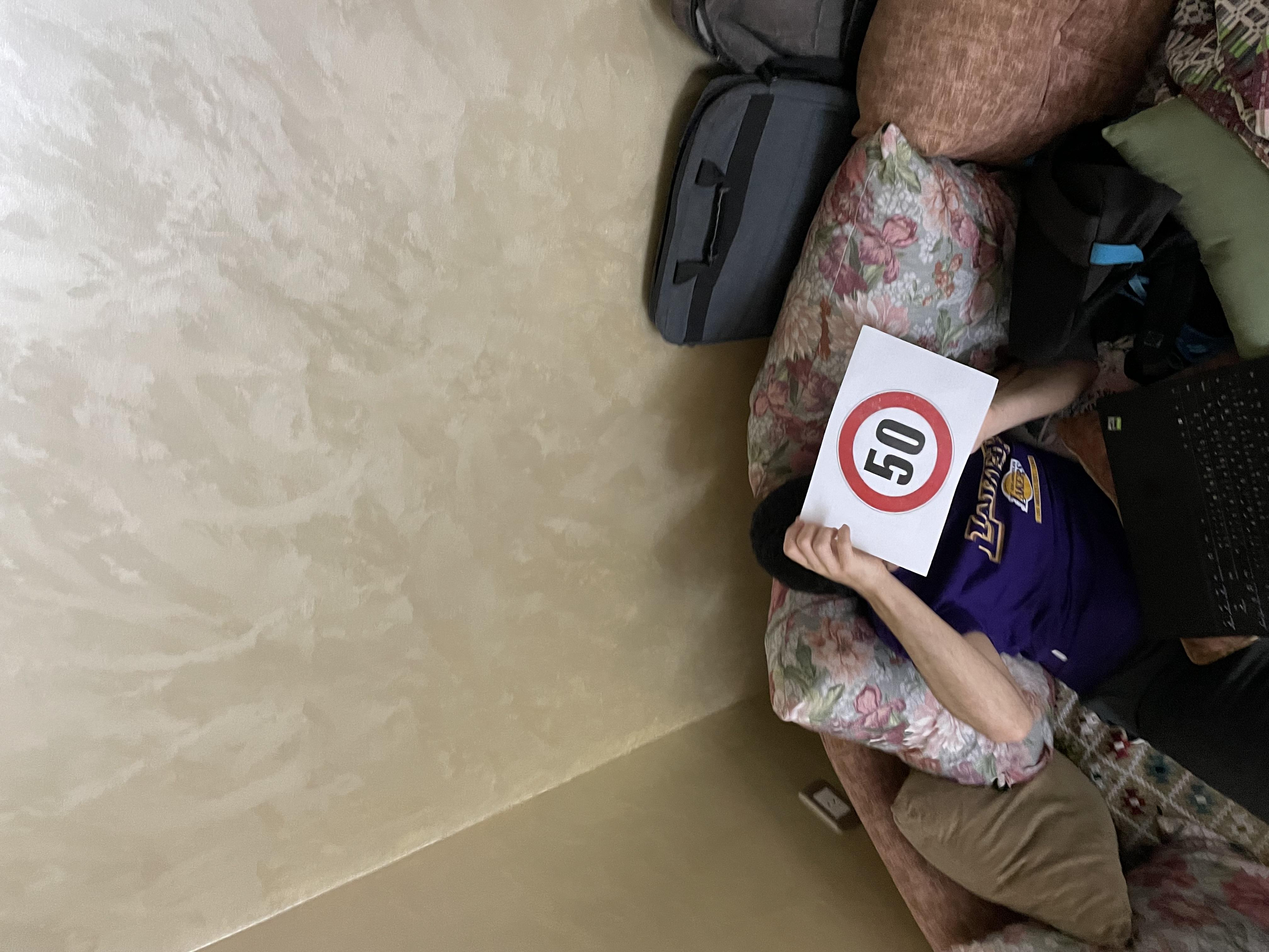50-Speed: (590, 624, 747, 717)
